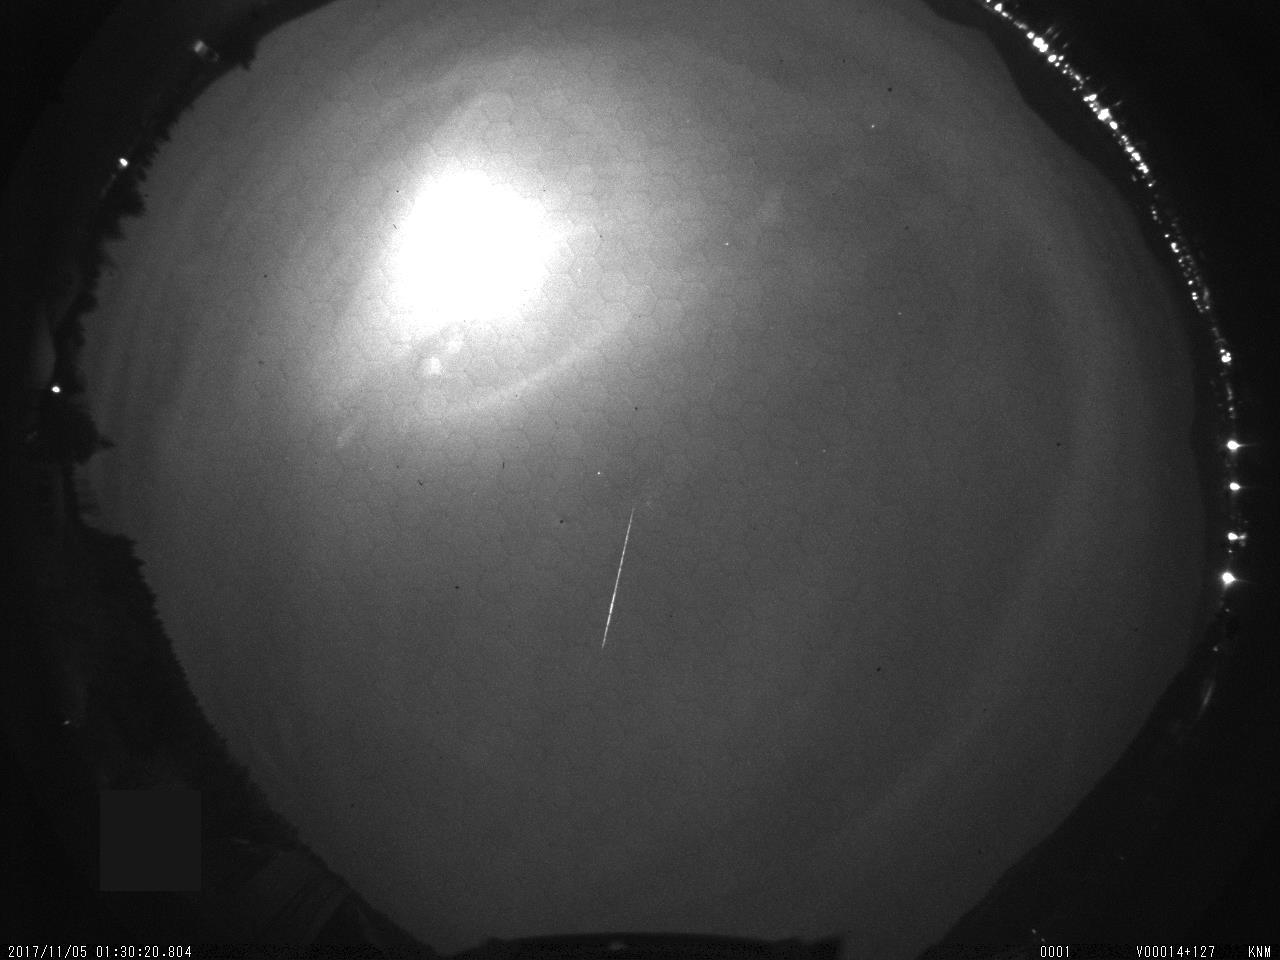meteor: (578, 498, 652, 656)
